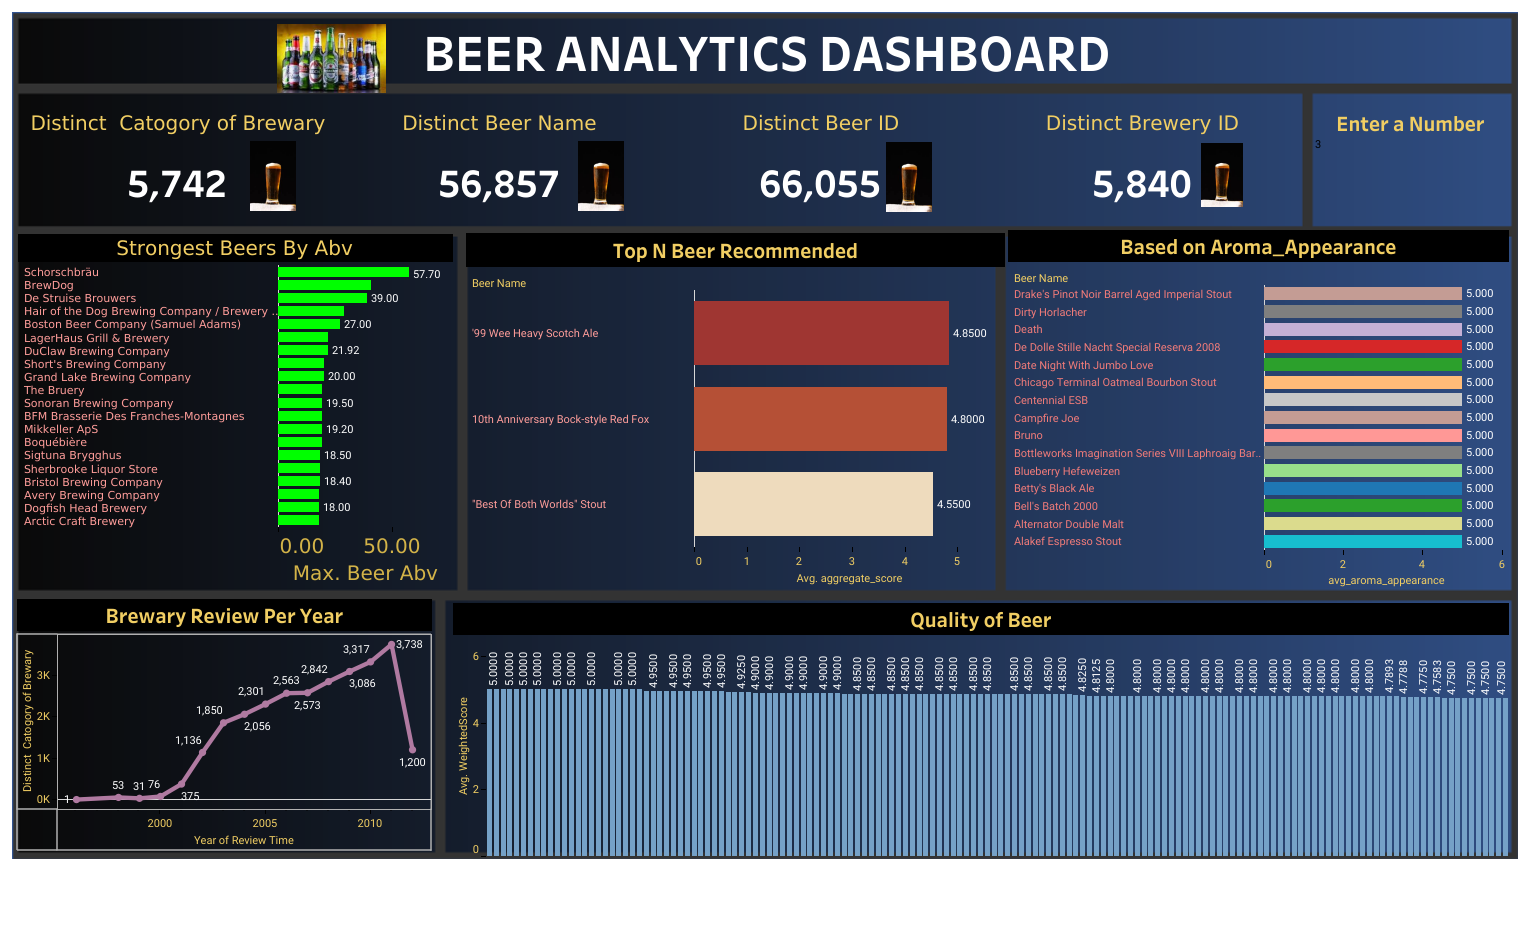

The page's visual inventory and layout, read from the dashboard file:
{"tool":"tableau","page":{"name":"Beer Data Analysis","canvas":[1530,950],"ordinal":0},"visuals":[{"type":"image","param":"C:/Users/sesa687360/Downloads/HR background.pptx (2).png","box":[8,8,1514,934]},{"type":"text","box":[15,12,1504,78]},{"type":"parameter","param":"[Parameters].[Parameter 1]","box":[1313,94,195,137]},{"type":"worksheet","title":"KPI","mark":"Automatic","box":[17,95,1286,133]},{"type":"worksheet","title":"aroma and appearance ","mark":"Square","box":[1008,230,501,357]},{"type":"worksheet","title":"TOPN","mark":"Automatic","rows":["beer_name"],"cols":["Calculation_737182984524038151"],"box":[466,233,539,355]},{"type":"worksheet","title":"abv","mark":"Automatic","rows":["brewery_name"],"cols":["beer_abv"],"box":[18,234,435,354]},{"type":"worksheet","title":"Review per Year","mark":"Automatic","rows":["Calculation_1479713973162557443"],"cols":["review_time"],"box":[17,599,415,252]},{"type":"worksheet","title":"Quality","mark":"Automatic","rows":["Calculation_737182984531927049"],"cols":["beer_name"],"box":[453,603,1056,253]}]}

Visuals, with their boxes in screenshot pixels (x1, y1, x2, y2), scaled from the page's 1530x950 canvas onto the 1529x949 screenshot:
image: (8,8,1521,941)
text: (15,12,1518,90)
parameter: (1312,94,1507,231)
"KPI" worksheet: (17,95,1302,228)
"aroma and appearance " worksheet (Square marks): (1007,230,1508,586)
"TOPN" worksheet: (466,233,1004,587)
"abv" worksheet: (18,234,453,587)
"Review per Year" worksheet: (17,598,432,850)
"Quality" worksheet: (453,602,1508,855)
